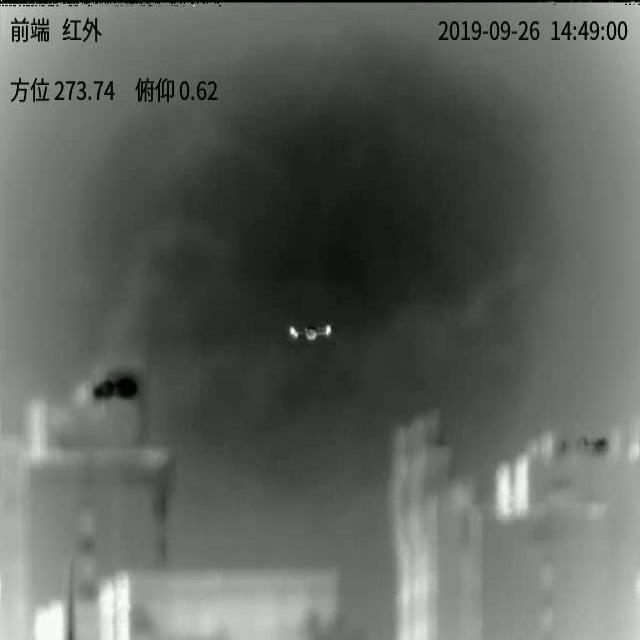drone: (288, 324, 332, 342)
